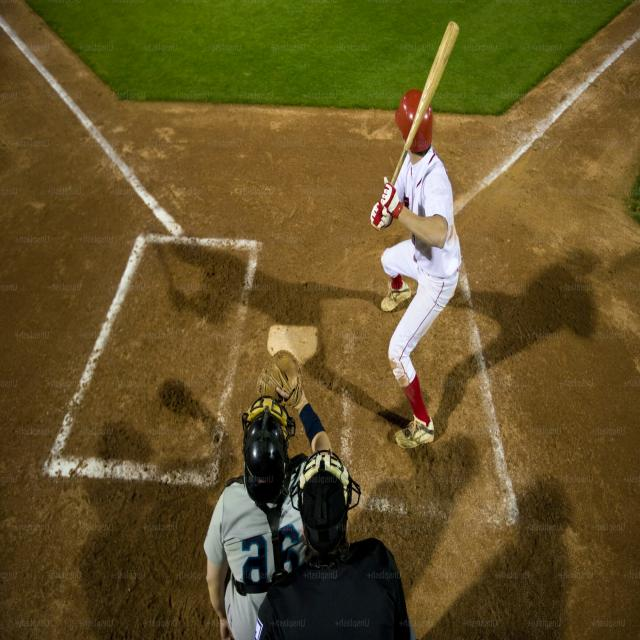adult: (205, 369, 335, 640), (369, 92, 458, 444), (256, 452, 406, 640)
